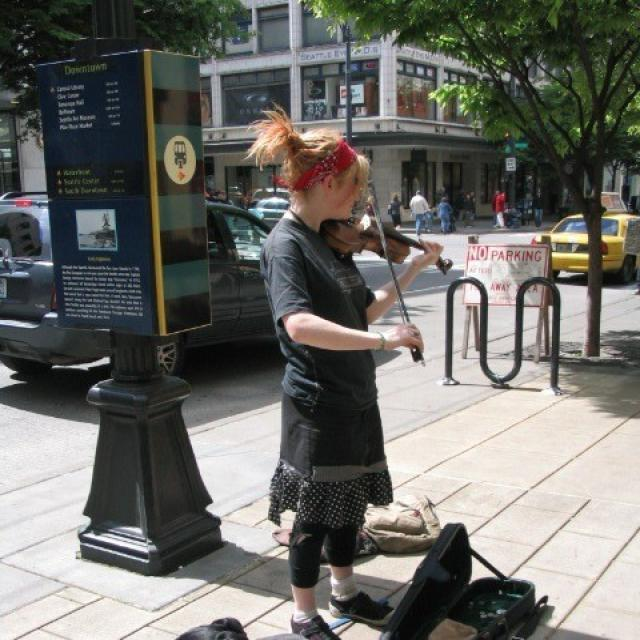violin: (318, 212, 452, 271)
